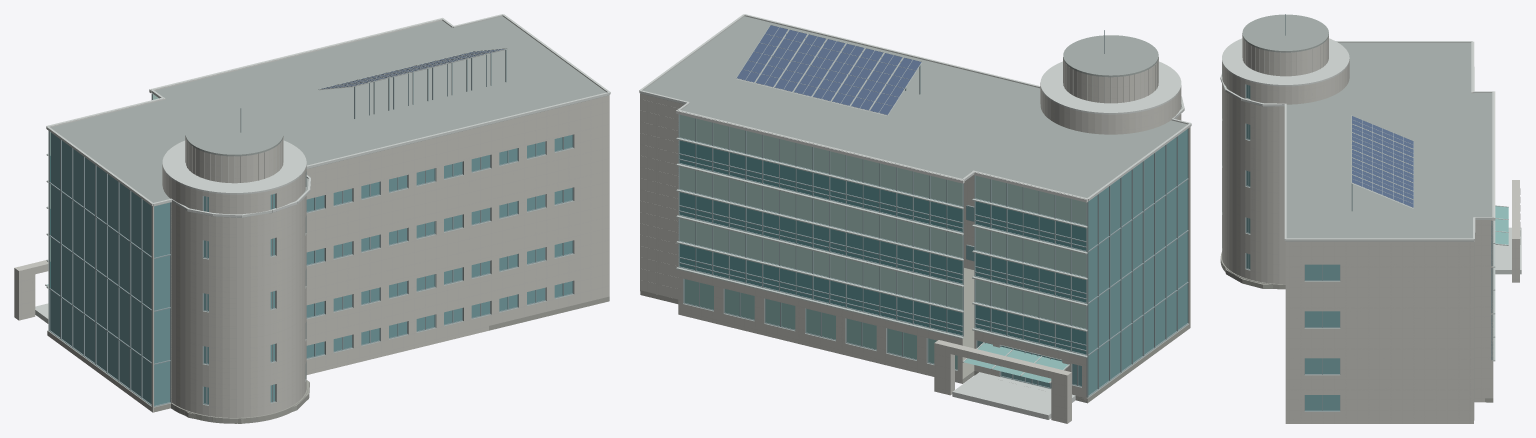
3 views of the same model, side by side, from view 1: azimuth 30°, elevation 25°; view 2: azimuth 150°, elevation 25°; view 3: azimuth 270°, elevation 25° (orthographic). The views are drawn at different scales.
Parts seen in each view (by area): view 1: eco-tech-center__rearWhiteWing, eco-tech-center__roofSlab, eco-tech-center__roundStoneTower, eco-tech-center__towerSideCurtainGlass, eco-tech-center__rearWhiteWingGlass, eco-tech-center__frame, eco-tech-center__roofCoping, eco-tech-center__upperDrumRoof, eco-tech-center__towerSideLinkGlass, eco-tech-center__lowerDrumCap, eco-tech-center__rearWhiteWingFrames, eco-tech-center__upperRoundDrum (+14 smaller); view 2: eco-tech-center__roofSlab, eco-tech-center__frontFrostedGlass, eco-tech-center__frontOperableGlass, eco-tech-center__frame, eco-tech-center__towerSideCurtainGlass, eco-tech-center__solarCellFaces, eco-tech-center__leftOpaqueCheek, eco-tech-center__frontStonePodium_-12.21, eco-tech-center__frontStonePodium_-12.21Glass, eco-tech-center__thinWhiteFloorEdges, eco-tech-center__thinWhiteMidEdges, eco-tech-center__upperDrumRoof (+20 smaller); view 3: eco-tech-center__sideStoneWall_24.83, eco-tech-center__roofSlab, eco-tech-center__roundStoneTower, eco-tech-center__solarCellFaces, eco-tech-center__leftCheekReturn, eco-tech-center__upperDrumRoof, eco-tech-center__roofCoping, eco-tech-center__lowerDrumCap, eco-tech-center__sideStoneWall_24.83Glass, eco-tech-center__upperRoundDrum, eco-tech-center__solarCellGrid, eco-tech-center__roofLowerRoundDrum (+11 smaller).
Boxes of the visible parts, <box> form: eco-tech-center__rearWhiteWing: <box>306,95,609,374</box>; eco-tech-center__roofSlab: <box>50,16,608,217</box>; eco-tech-center__roundStoneTower: <box>172,166,306,417</box>; eco-tech-center__towerSideCurtainGlass: <box>50,132,151,404</box>; eco-tech-center__rearWhiteWingGlass: <box>306,135,572,357</box>; eco-tech-center__frame: <box>49,93,170,406</box>; eco-tech-center__roofCoping: <box>46,14,610,217</box>; eco-tech-center__upperDrumRoof: <box>185,113,283,156</box>; eco-tech-center__towerSideLinkGlass: <box>154,202,169,405</box>; eco-tech-center__lowerDrumCap: <box>162,140,306,194</box>; eco-tech-center__rearWhiteWingFrames: <box>306,135,573,358</box>; eco-tech-center__upperRoundDrum: <box>185,137,283,183</box>; eco-tech-center__roofSlab: <box>641,16,1187,197</box>; eco-tech-center__frontFrostedGlass: <box>679,114,1086,328</box>; eco-tech-center__frontOperableGlass: <box>679,140,1086,354</box>; eco-tech-center__frame: <box>678,114,1188,397</box>; eco-tech-center__towerSideCurtainGlass: <box>1088,129,1187,395</box>; eco-tech-center__solarCellFaces: <box>737,25,921,114</box>; eco-tech-center__leftOpaqueCheek: <box>640,93,684,299</box>; eco-tech-center__frontStonePodium_-12.21: <box>678,270,962,383</box>; eco-tech-center__frontStonePodium_-12.21Glass: <box>684,279,957,369</box>; eco-tech-center__thinWhiteFloorEdges: <box>676,163,1087,357</box>; eco-tech-center__thinWhiteMidEdges: <box>676,137,1087,331</box>; eco-tech-center__upperDrumRoof: <box>1063,35,1158,77</box>; eco-tech-center__sideStoneWall_24.83: <box>1285,241,1472,423</box>; eco-tech-center__roofSlab: <box>1227,43,1492,241</box>; eco-tech-center__roundStoneTower: <box>1222,62,1285,284</box>; eco-tech-center__solarCellFaces: <box>1352,116,1413,207</box>; eco-tech-center__leftCheekReturn: <box>1474,220,1493,402</box>; eco-tech-center__upperDrumRoof: <box>1242,14,1328,52</box>; eco-tech-center__roofCoping: <box>1220,41,1494,241</box>; eco-tech-center__lowerDrumCap: <box>1222,38,1349,86</box>; eco-tech-center__sideStoneWall_24.83Glass: <box>1305,264,1339,410</box>; eco-tech-center__upperRoundDrum: <box>1242,34,1328,76</box>; eco-tech-center__solarCellGrid: <box>1351,115,1413,207</box>; eco-tech-center__roofLowerRoundDrum: <box>1285,60,1349,104</box>.
Bounding box in the file's own units: 50.44 × 29.4 × 32.01.
15 materials, 1 textured.
